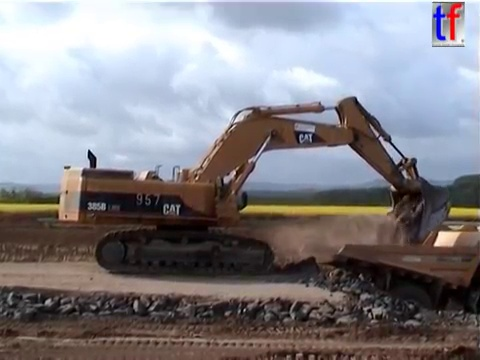excavator: (55, 92, 454, 279)
truck: (297, 219, 480, 333)
